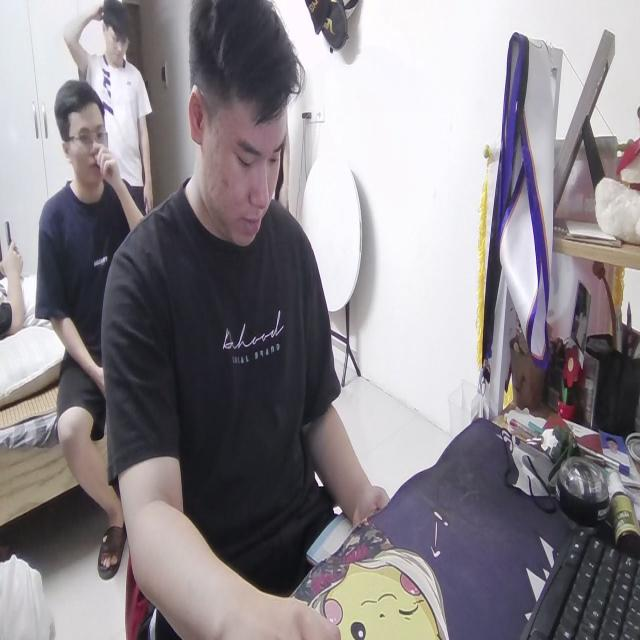extra_person: (33, 87, 144, 532), (74, 11, 160, 226)
student: (104, 0, 386, 640)
